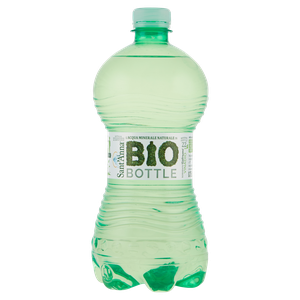PlasticBottle: (83, 8, 218, 300)
